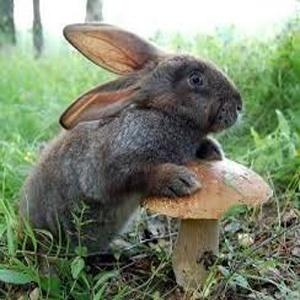rabbit: (19, 22, 273, 300)
